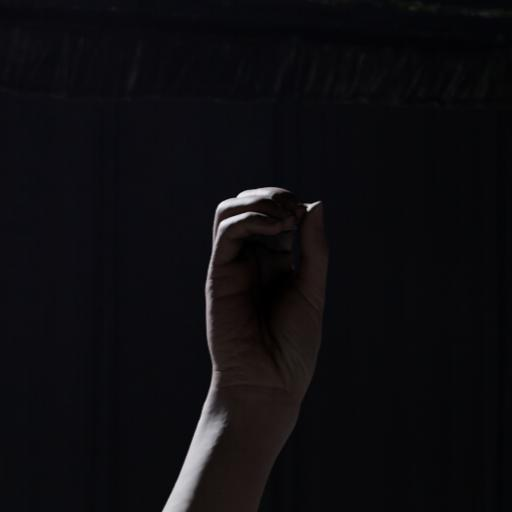O: (192, 167, 352, 413)
